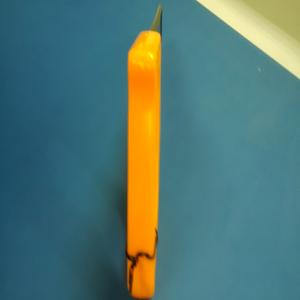serrote: (125, 4, 163, 299)
